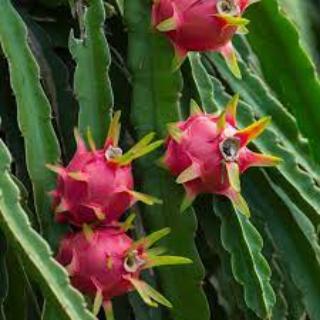thanh_long: (43, 222, 173, 306), (56, 136, 152, 223), (170, 111, 261, 198)
